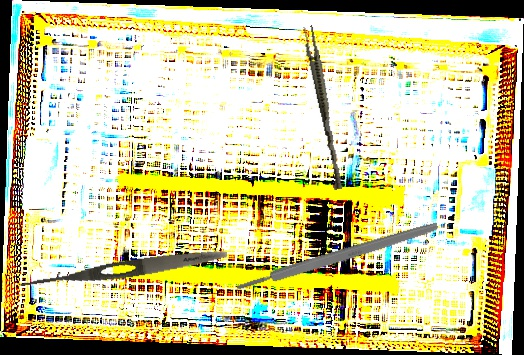Dressing Forceps: (16, 244, 229, 296)
Scalpel Handle: (234, 219, 440, 294)
Tissue Forceps: (299, 24, 349, 191)
